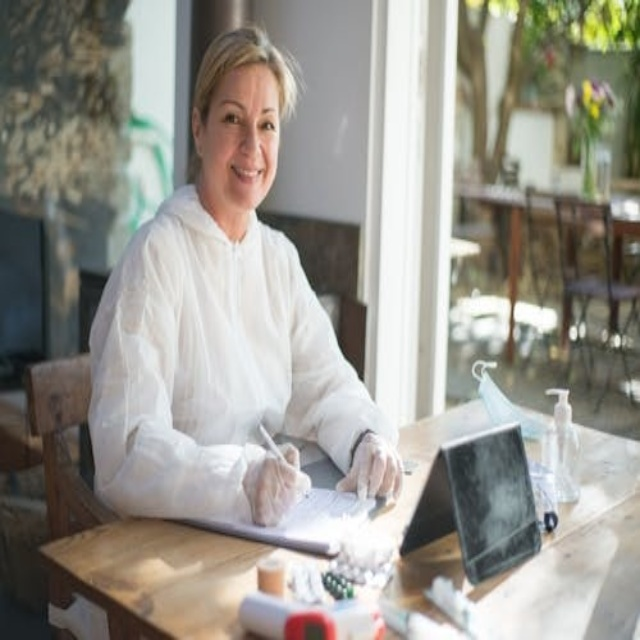Guantes: (243, 443, 310, 527), (335, 432, 403, 502)
Sin_gafas: (212, 92, 283, 134)
Sin_mascara: (221, 151, 271, 203)
